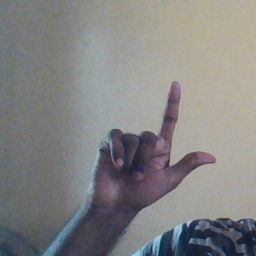L: (87, 80, 220, 209)
